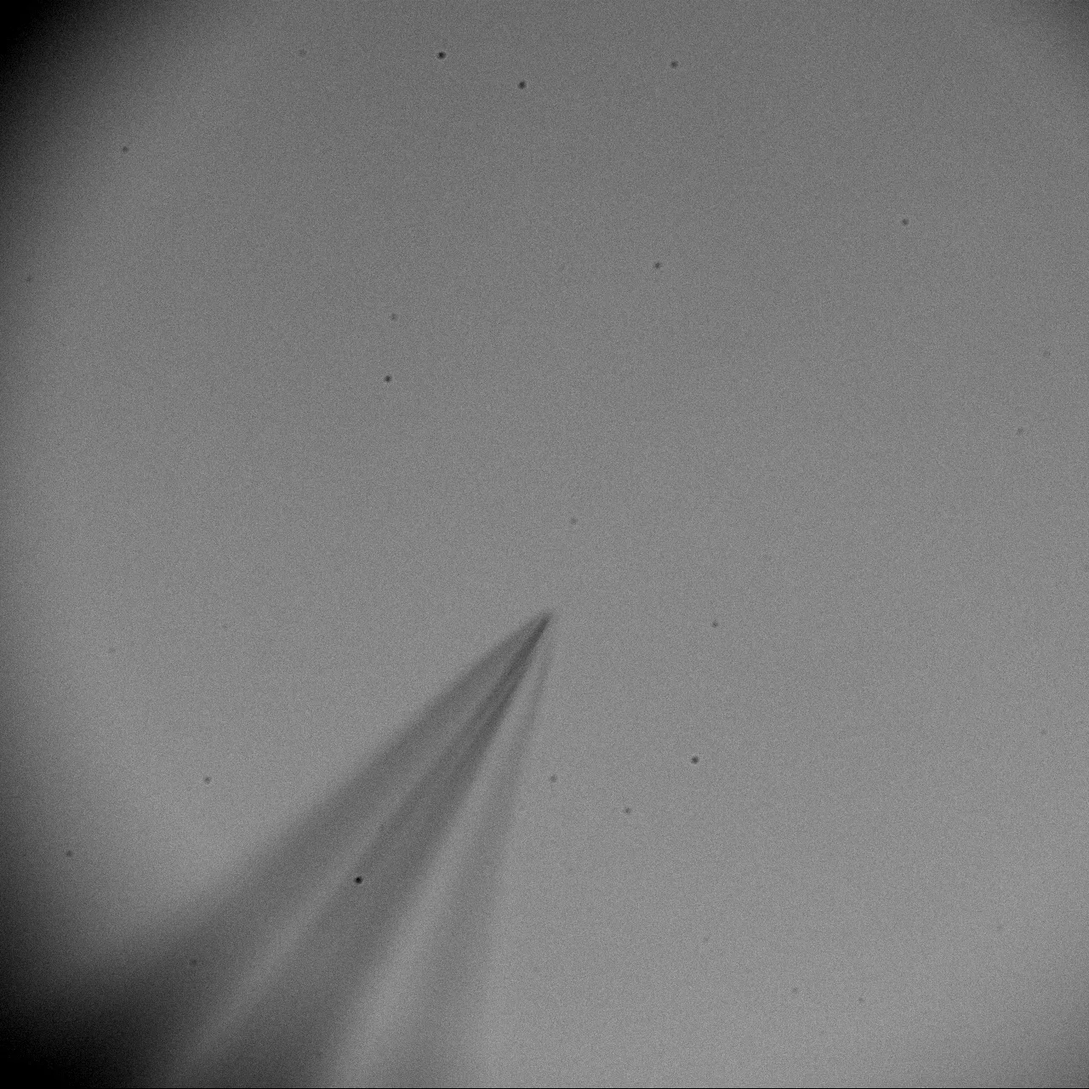tip: (485, 601, 574, 725)
